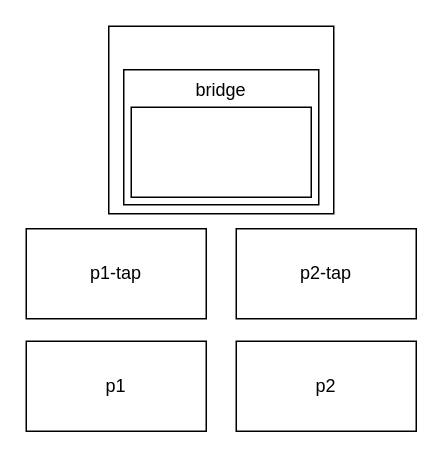
This 443x458 diagram has some shape labels left out. Here are the shapes that lost their labels. From the top down, the box of each, then its label:
(107, 25, 334, 214): vrf
(130, 106, 311, 197): vtep
